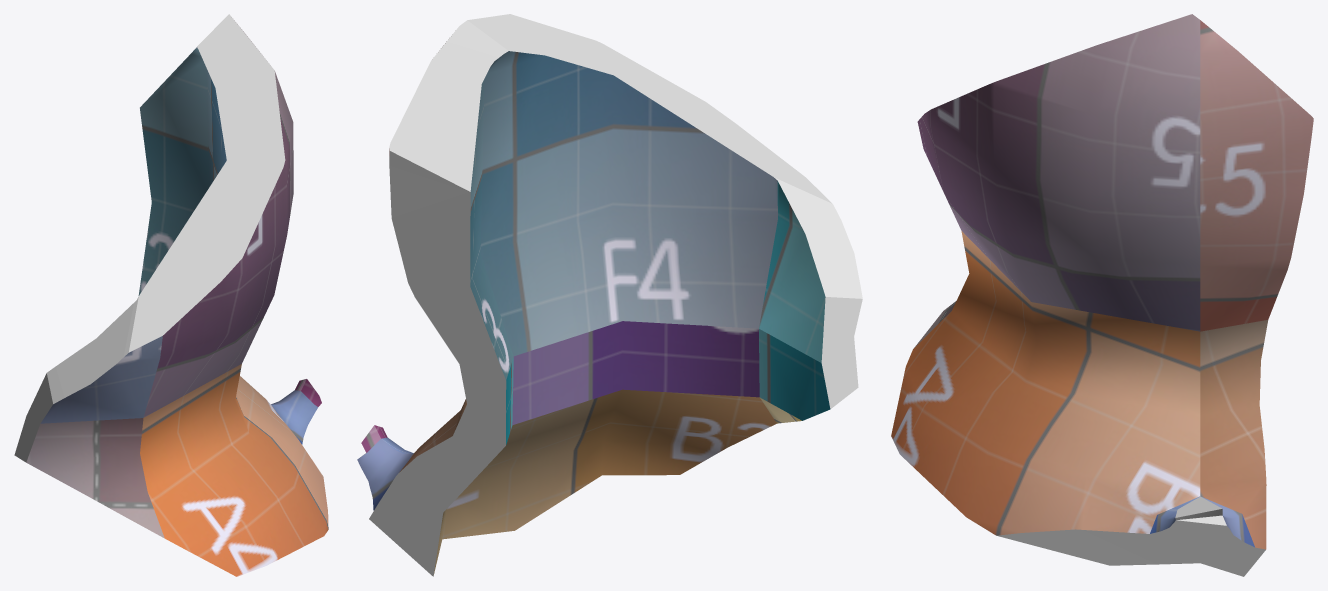
File: RoundVase_SHAT_cell_019.fbx
3 views of the same model, side by side, from view 1: azimuth 30°, elevation 25°; view 2: azimuth 150°, elevation 25°; view 3: azimuth 270°, elevation 25° (orthographic). The views are drawn at different scales.
Visible parts, largest first — view 1: RoundVase_SHAT_cell_019; view 2: RoundVase_SHAT_cell_019; view 3: RoundVase_SHAT_cell_019.
Boxes of the visible parts, left/top/right/bottom form: RoundVase_SHAT_cell_019: left=14, top=14, right=328, bottom=576; RoundVase_SHAT_cell_019: left=357, top=14, right=862, bottom=576; RoundVase_SHAT_cell_019: left=891, top=14, right=1313, bottom=576.
Size of the model in its own units: 0.6544 by 0.8451 by 0.5798.
2 materials, 1 textured.
